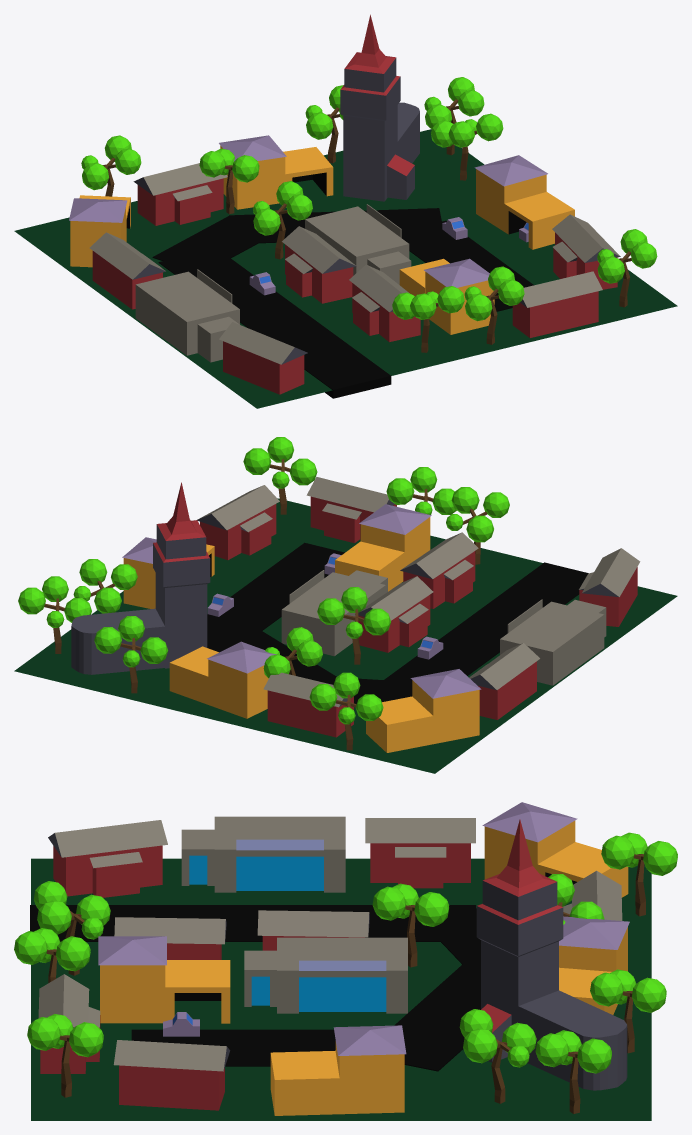
The model's file is Linn_test.glb.
3 renders of one model, top to bottom at view 1: azimuth 30°, elevation 25°; view 2: azimuth 150°, elevation 25°; view 3: azimuth 270°, elevation 25°, orthographic. The views are drawn at different scales.
Visible parts, largest first — view 1: Plane, Kirik, Pood, Tee1, Maja1.001, Pood.001, Maja1.003, Maja2.003, Maja2.005, Maja2.006, Maja2.004, Maja1.002 (+17 smaller); view 2: Plane, Kirik, Maja1, Pood, Maja1.003, Maja1.002, Tee1, Tee2, Pood.001, Maja2.002, Maja2.003, Maja2.004 (+17 smaller); view 3: Plane, Kirik, Pood, Pood.001, Maja1.001, Maja1.002, Maja2.006, Maja2.002, Maja2, Maja1, Tee3, Maja1.003 (+18 smaller).
Boxes of the visible parts, bbox=[...] form: Plane: bbox=[14, 129, 677, 408]; Kirik: bbox=[340, 14, 419, 201]; Pood: bbox=[135, 269, 239, 362]; Tee1: bbox=[240, 298, 391, 398]; Maja1.001: bbox=[474, 155, 574, 249]; Pood.001: bbox=[305, 204, 411, 284]; Maja1.003: bbox=[219, 135, 333, 209]; Maja2.003: bbox=[512, 271, 602, 337]; Maja2.005: bbox=[133, 163, 227, 225]; Maja2.006: bbox=[219, 322, 307, 394]; Maja2.004: bbox=[282, 226, 356, 303]; Maja1.002: bbox=[399, 258, 494, 334]; Plane: bbox=[14, 498, 677, 773]; Kirik: bbox=[71, 482, 210, 674]; Maja1: bbox=[366, 669, 481, 752]; Pood: bbox=[500, 599, 606, 685]; Maja1.003: bbox=[169, 641, 276, 718]; Maja1.002: bbox=[335, 504, 431, 591]; Tee1: bbox=[439, 562, 588, 653]; Tee2: bbox=[207, 542, 344, 633]; Pood.001: bbox=[281, 570, 387, 656]; Maja2.002: bbox=[196, 485, 279, 560]; Maja2.003: bbox=[306, 476, 396, 543]; Maja2.004: bbox=[355, 576, 433, 652]; Plane: bbox=[31, 858, 651, 1120]; Kirik: bbox=[476, 819, 627, 1090]; Pood: bbox=[181, 816, 345, 892]; Pood.001: bbox=[244, 937, 407, 1013]; Maja1.001: bbox=[270, 1025, 406, 1115]; Maja1.002: bbox=[98, 936, 230, 1023]; Maja2.006: bbox=[48, 820, 167, 897]; Maja2.002: bbox=[113, 1040, 230, 1110]; Maja2: bbox=[365, 818, 475, 888]; Maja1: bbox=[482, 802, 628, 897]; Tee3: bbox=[394, 952, 480, 1071]; Maja1.003: bbox=[559, 916, 629, 1014].
Bounding box in the file's own units: 104 × 42.75 × 107.
1 material, 1 textured.
